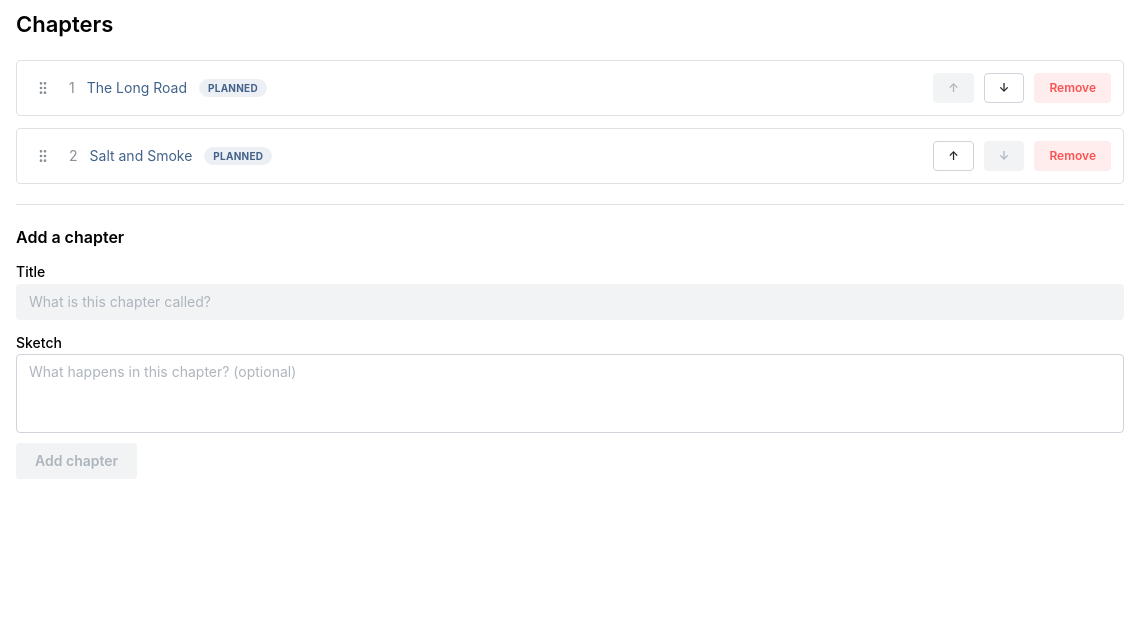
it: ChaptersPage — the three error surfaces are independent › DoD-8: a reorder failure disturbs neither the add form's drafts nor a per-chapter removal message
The image size is (1141, 634).
Type "A chapter the author is still writing down" into the field labelled "Title" at (570, 302), box [16,284,1124,320]
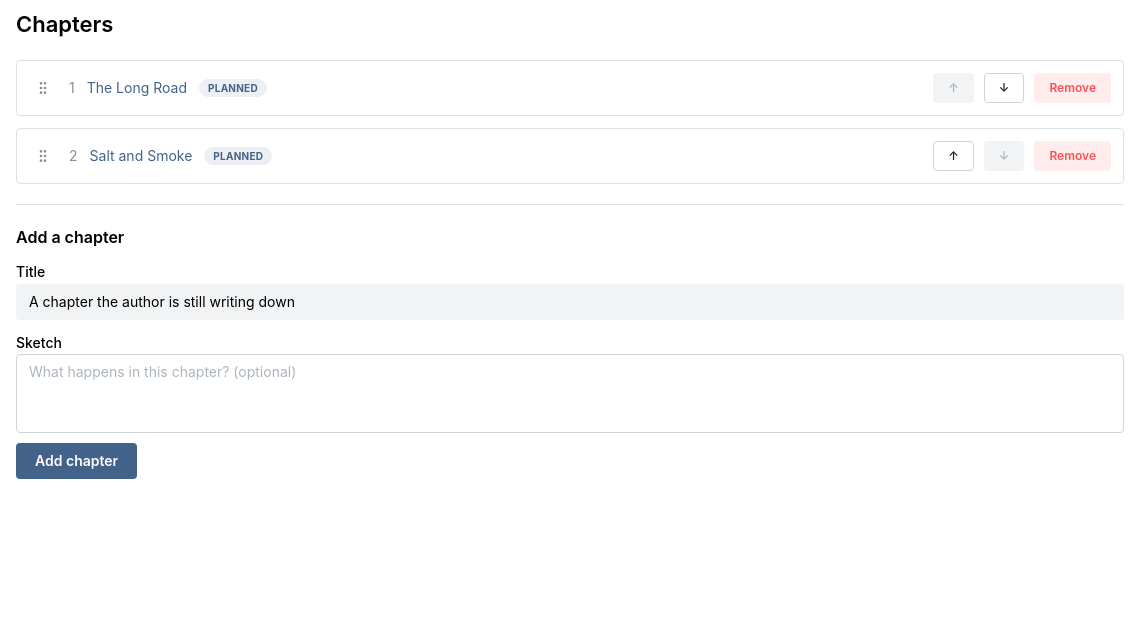
Type "Two brothers meet on the ice and neither speaks." into the text box labelled "Sketch" at (570, 394), box [16,354,1124,433]
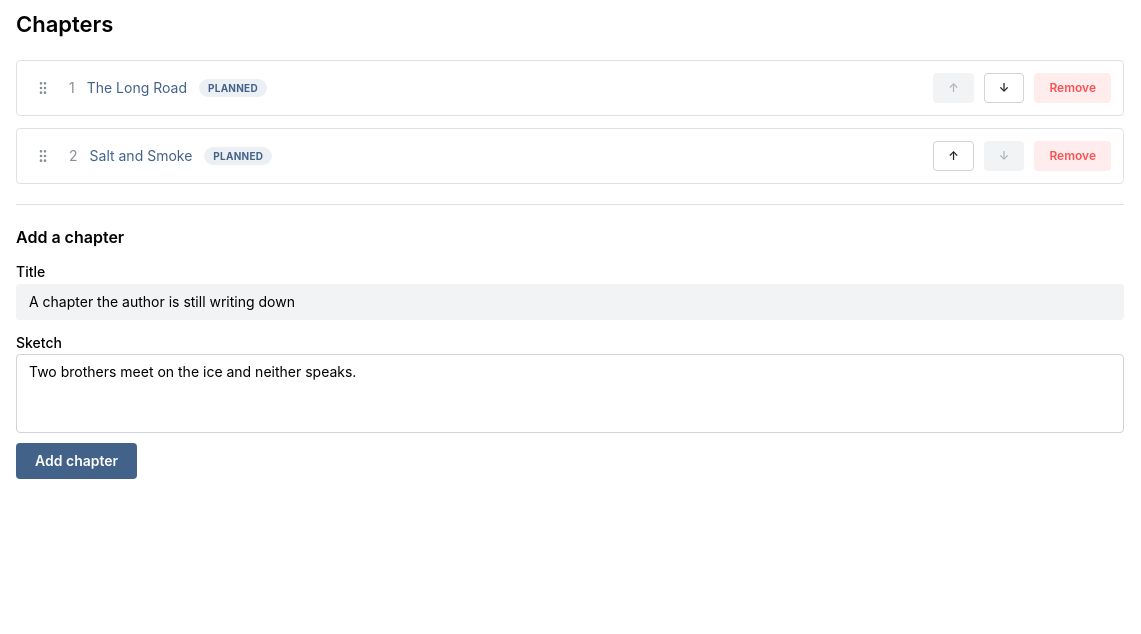
Click the button "Remove" in the row of "Salt and Smoke" at (1073, 156), box [1034,141,1111,171]
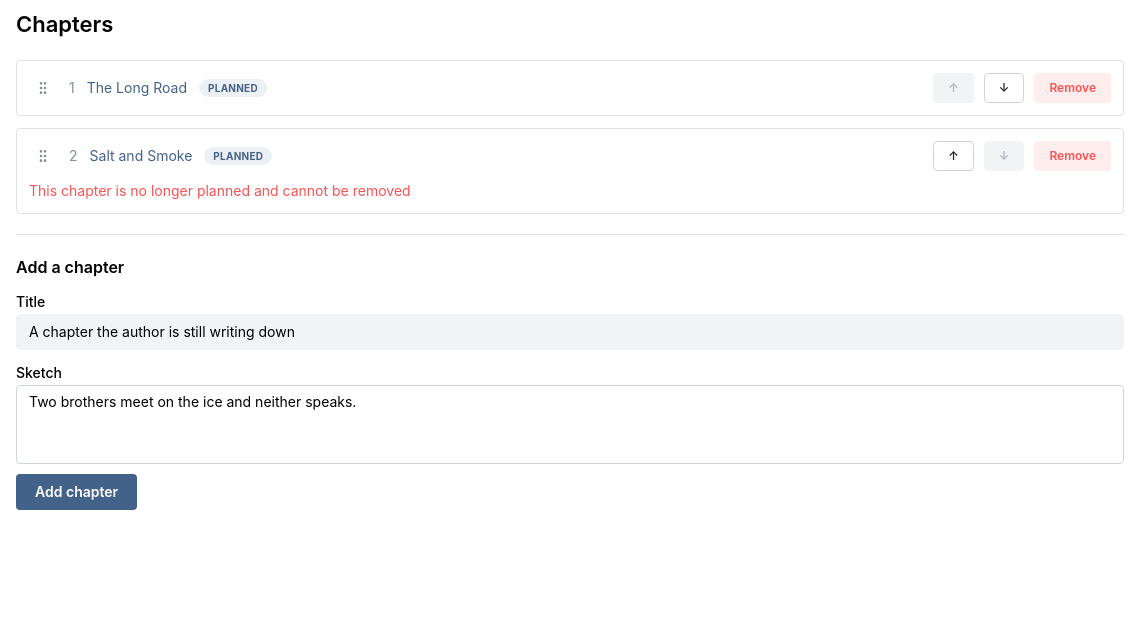
Now the text "This chapter is no longer planned and cannot be removed" is shown, box [29,182,411,199]
Click the button "↓" in the row of "The Long Road" at (1004, 88), box [984,73,1024,103]
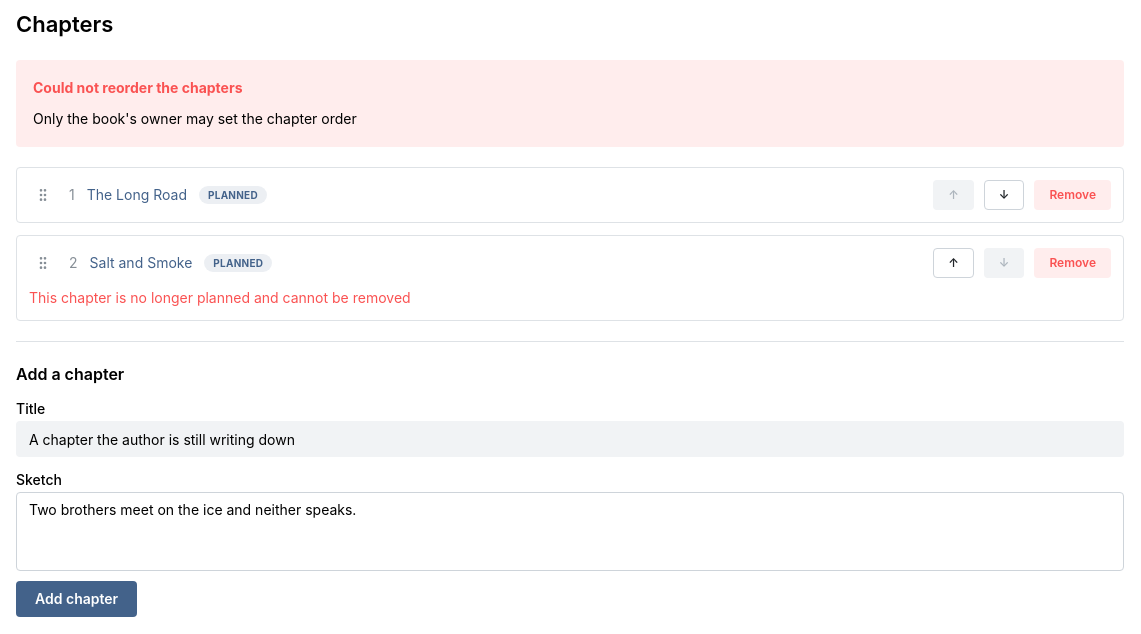
Expected: the text "The Long Road" is shown, [87,185,187,205]
Now the text "This chapter is no longer planned and cannot be removed" is shown, box [29,289,411,306]
Now the text "Only the book's owner may set the chapter order" is shown, box [33,110,357,128]
